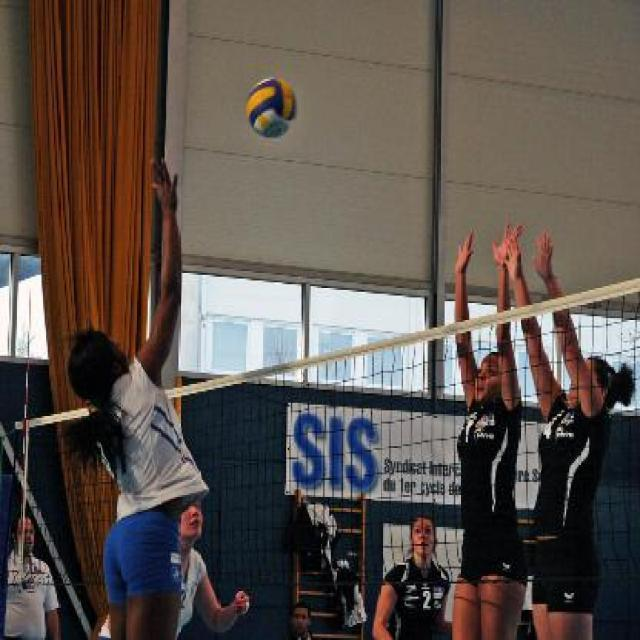volleyball: (245, 78, 298, 140)
